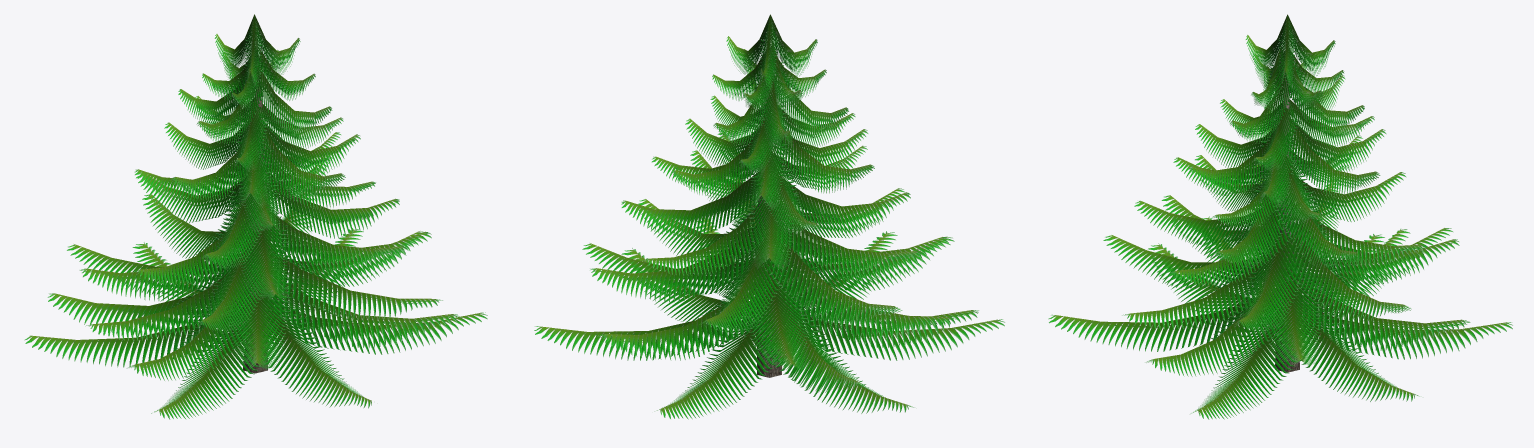
File: Pine Tree (Back Cull).fbx
3 renders of one model, left to right at view 1: azimuth 30°, elevation 25°; view 2: azimuth 150°, elevation 25°; view 3: azimuth 270°, elevation 25°, orthographic.
Parts seen in each view (by area): view 1: Pine_Tree; view 2: Pine_Tree; view 3: Pine_Tree.
Part boxes in pixels (box(x1,y1,x2,y2)): Pine_Tree: box(24, 14, 487, 419); Pine_Tree: box(534, 14, 1005, 419); Pine_Tree: box(1048, 14, 1512, 419).
Bounding box in the file's own units: 11.55 × 9.73 × 11.96.
